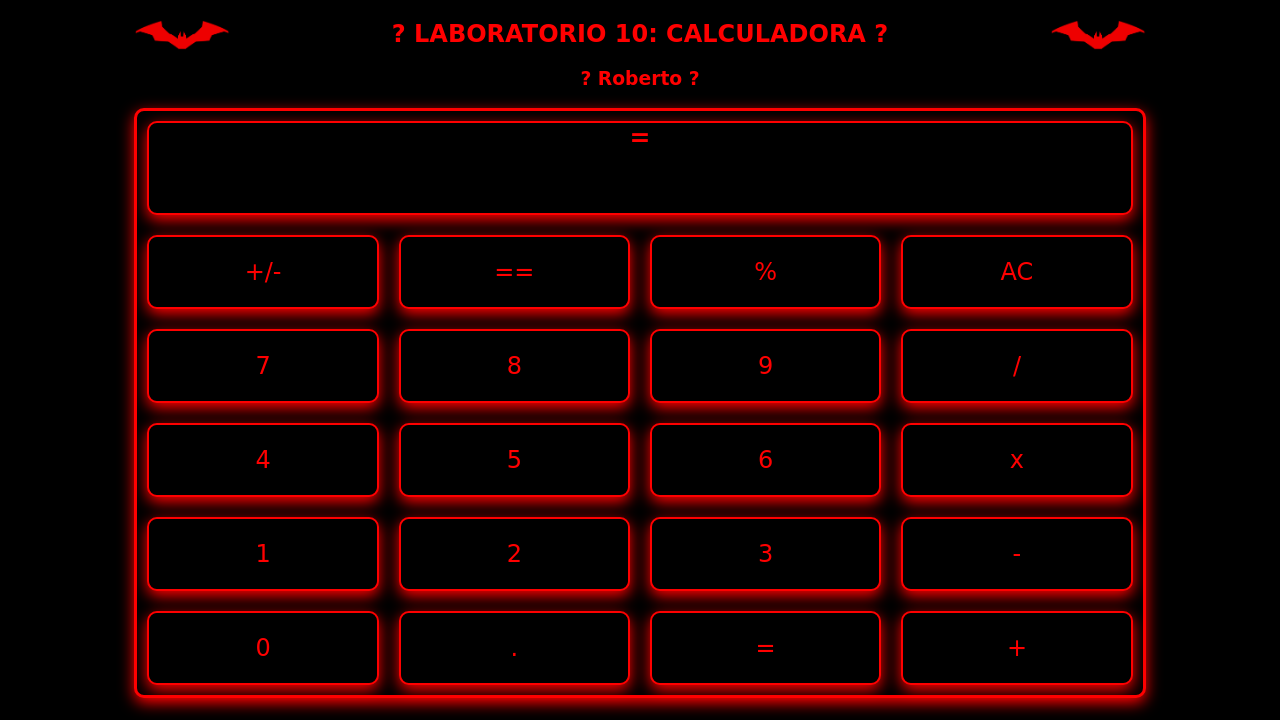
tests para la calculadora › introducir la operacion 10 / 0 =, depliga un error en h3#result
The image size is (1280, 720).
Click the button "1": (263,554) [149,518,377,588]
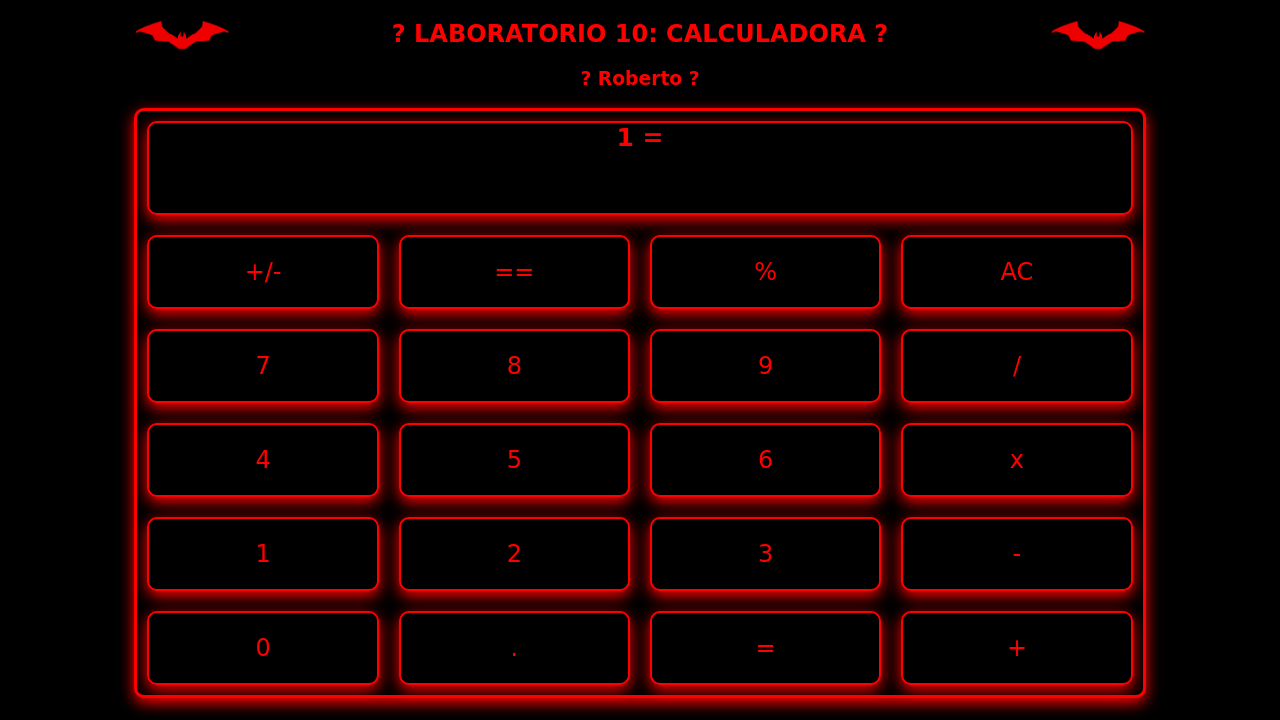
Click the button "0": (263,648) [149,612,377,682]
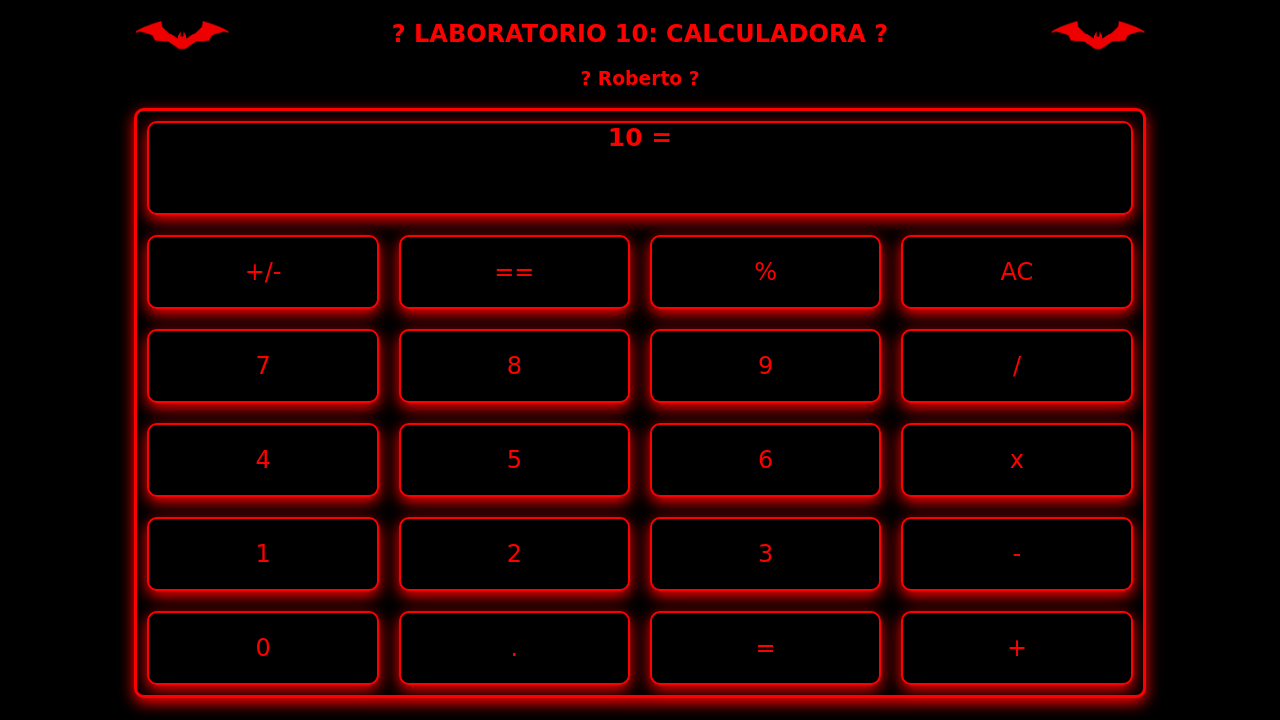
Click the button "/": (1017,366) [903,330,1131,400]
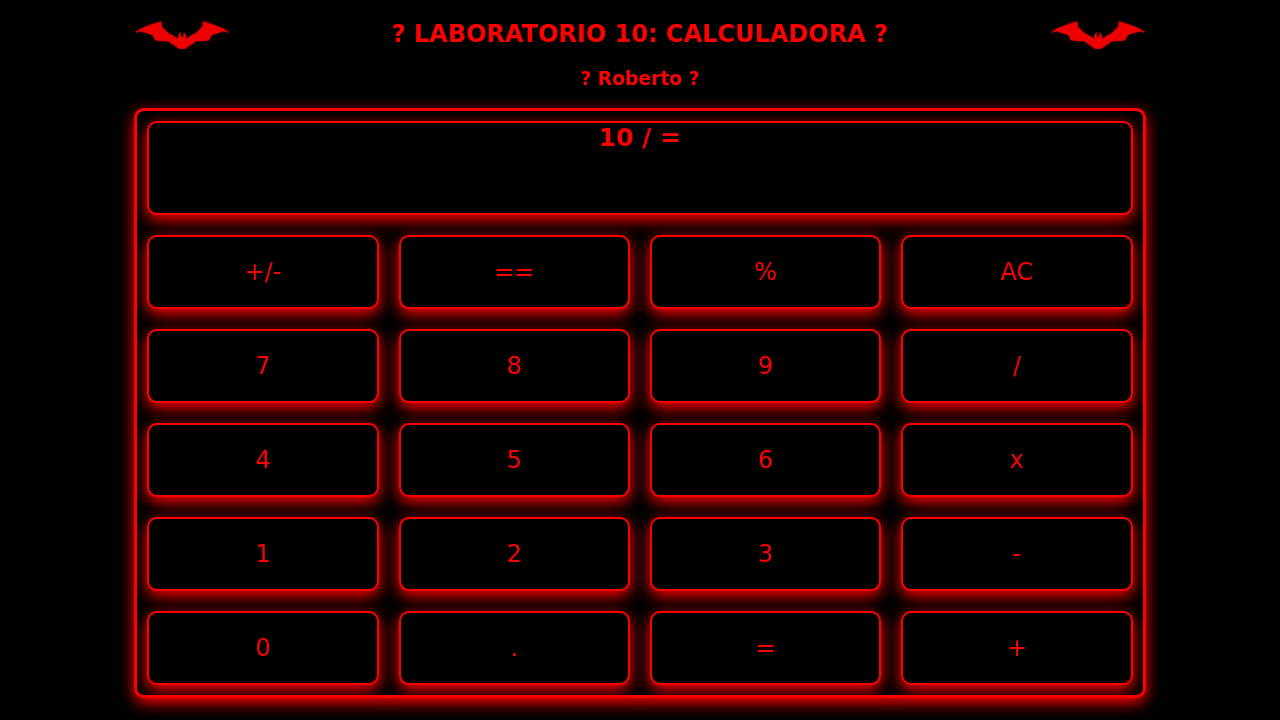
Click the button "0": (263,648) [149,612,377,682]
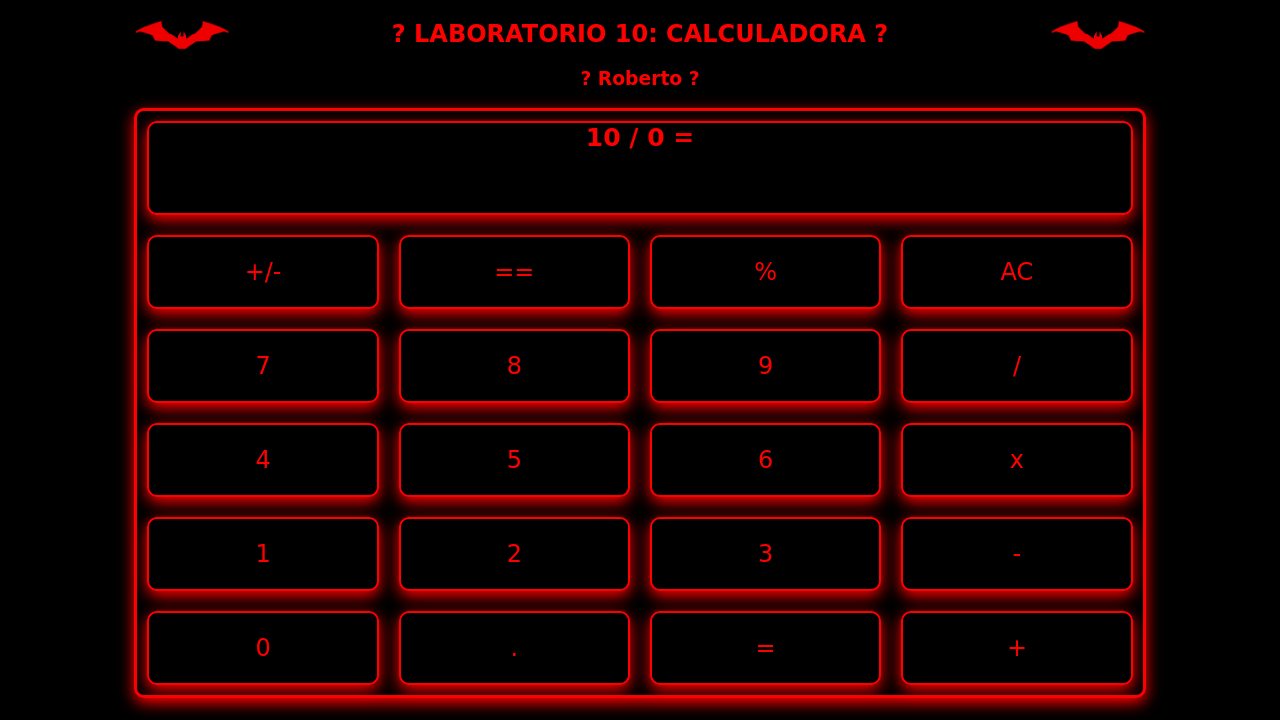
Click the button "=": (766,648) [652,612,879,682]
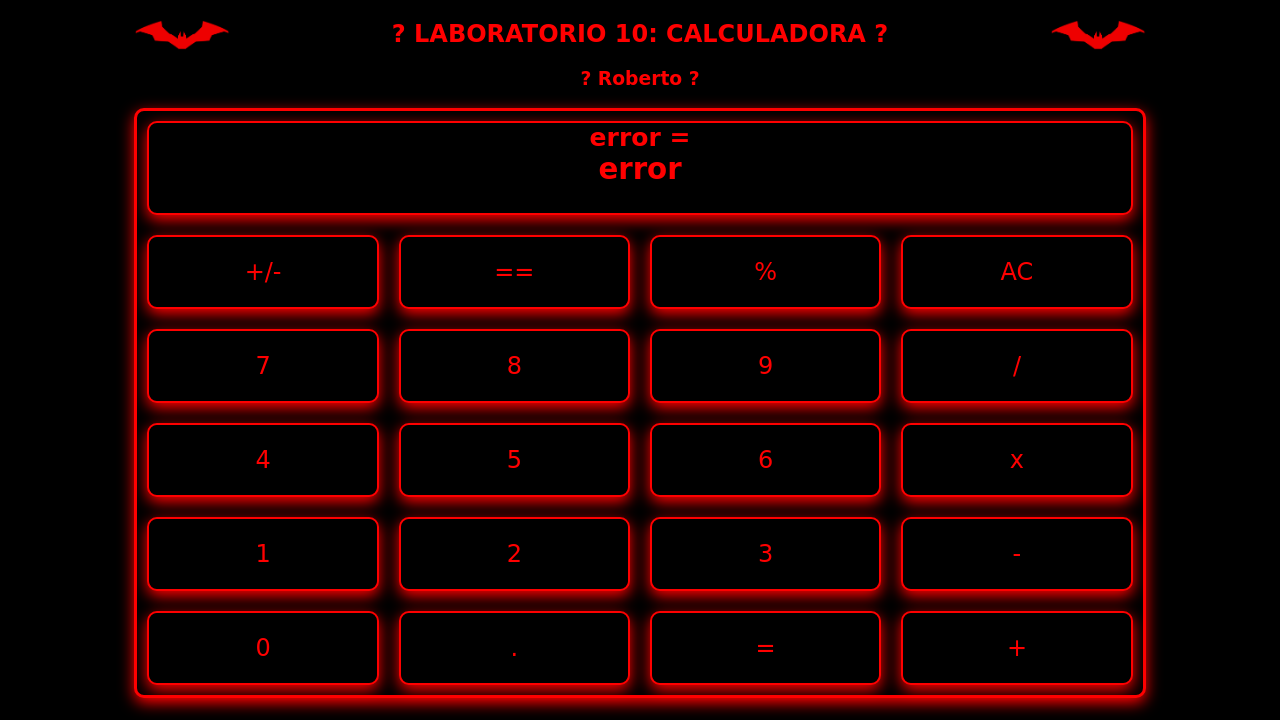
Check: the heading with test id "result" reads "error", box [598,152,682,186]
